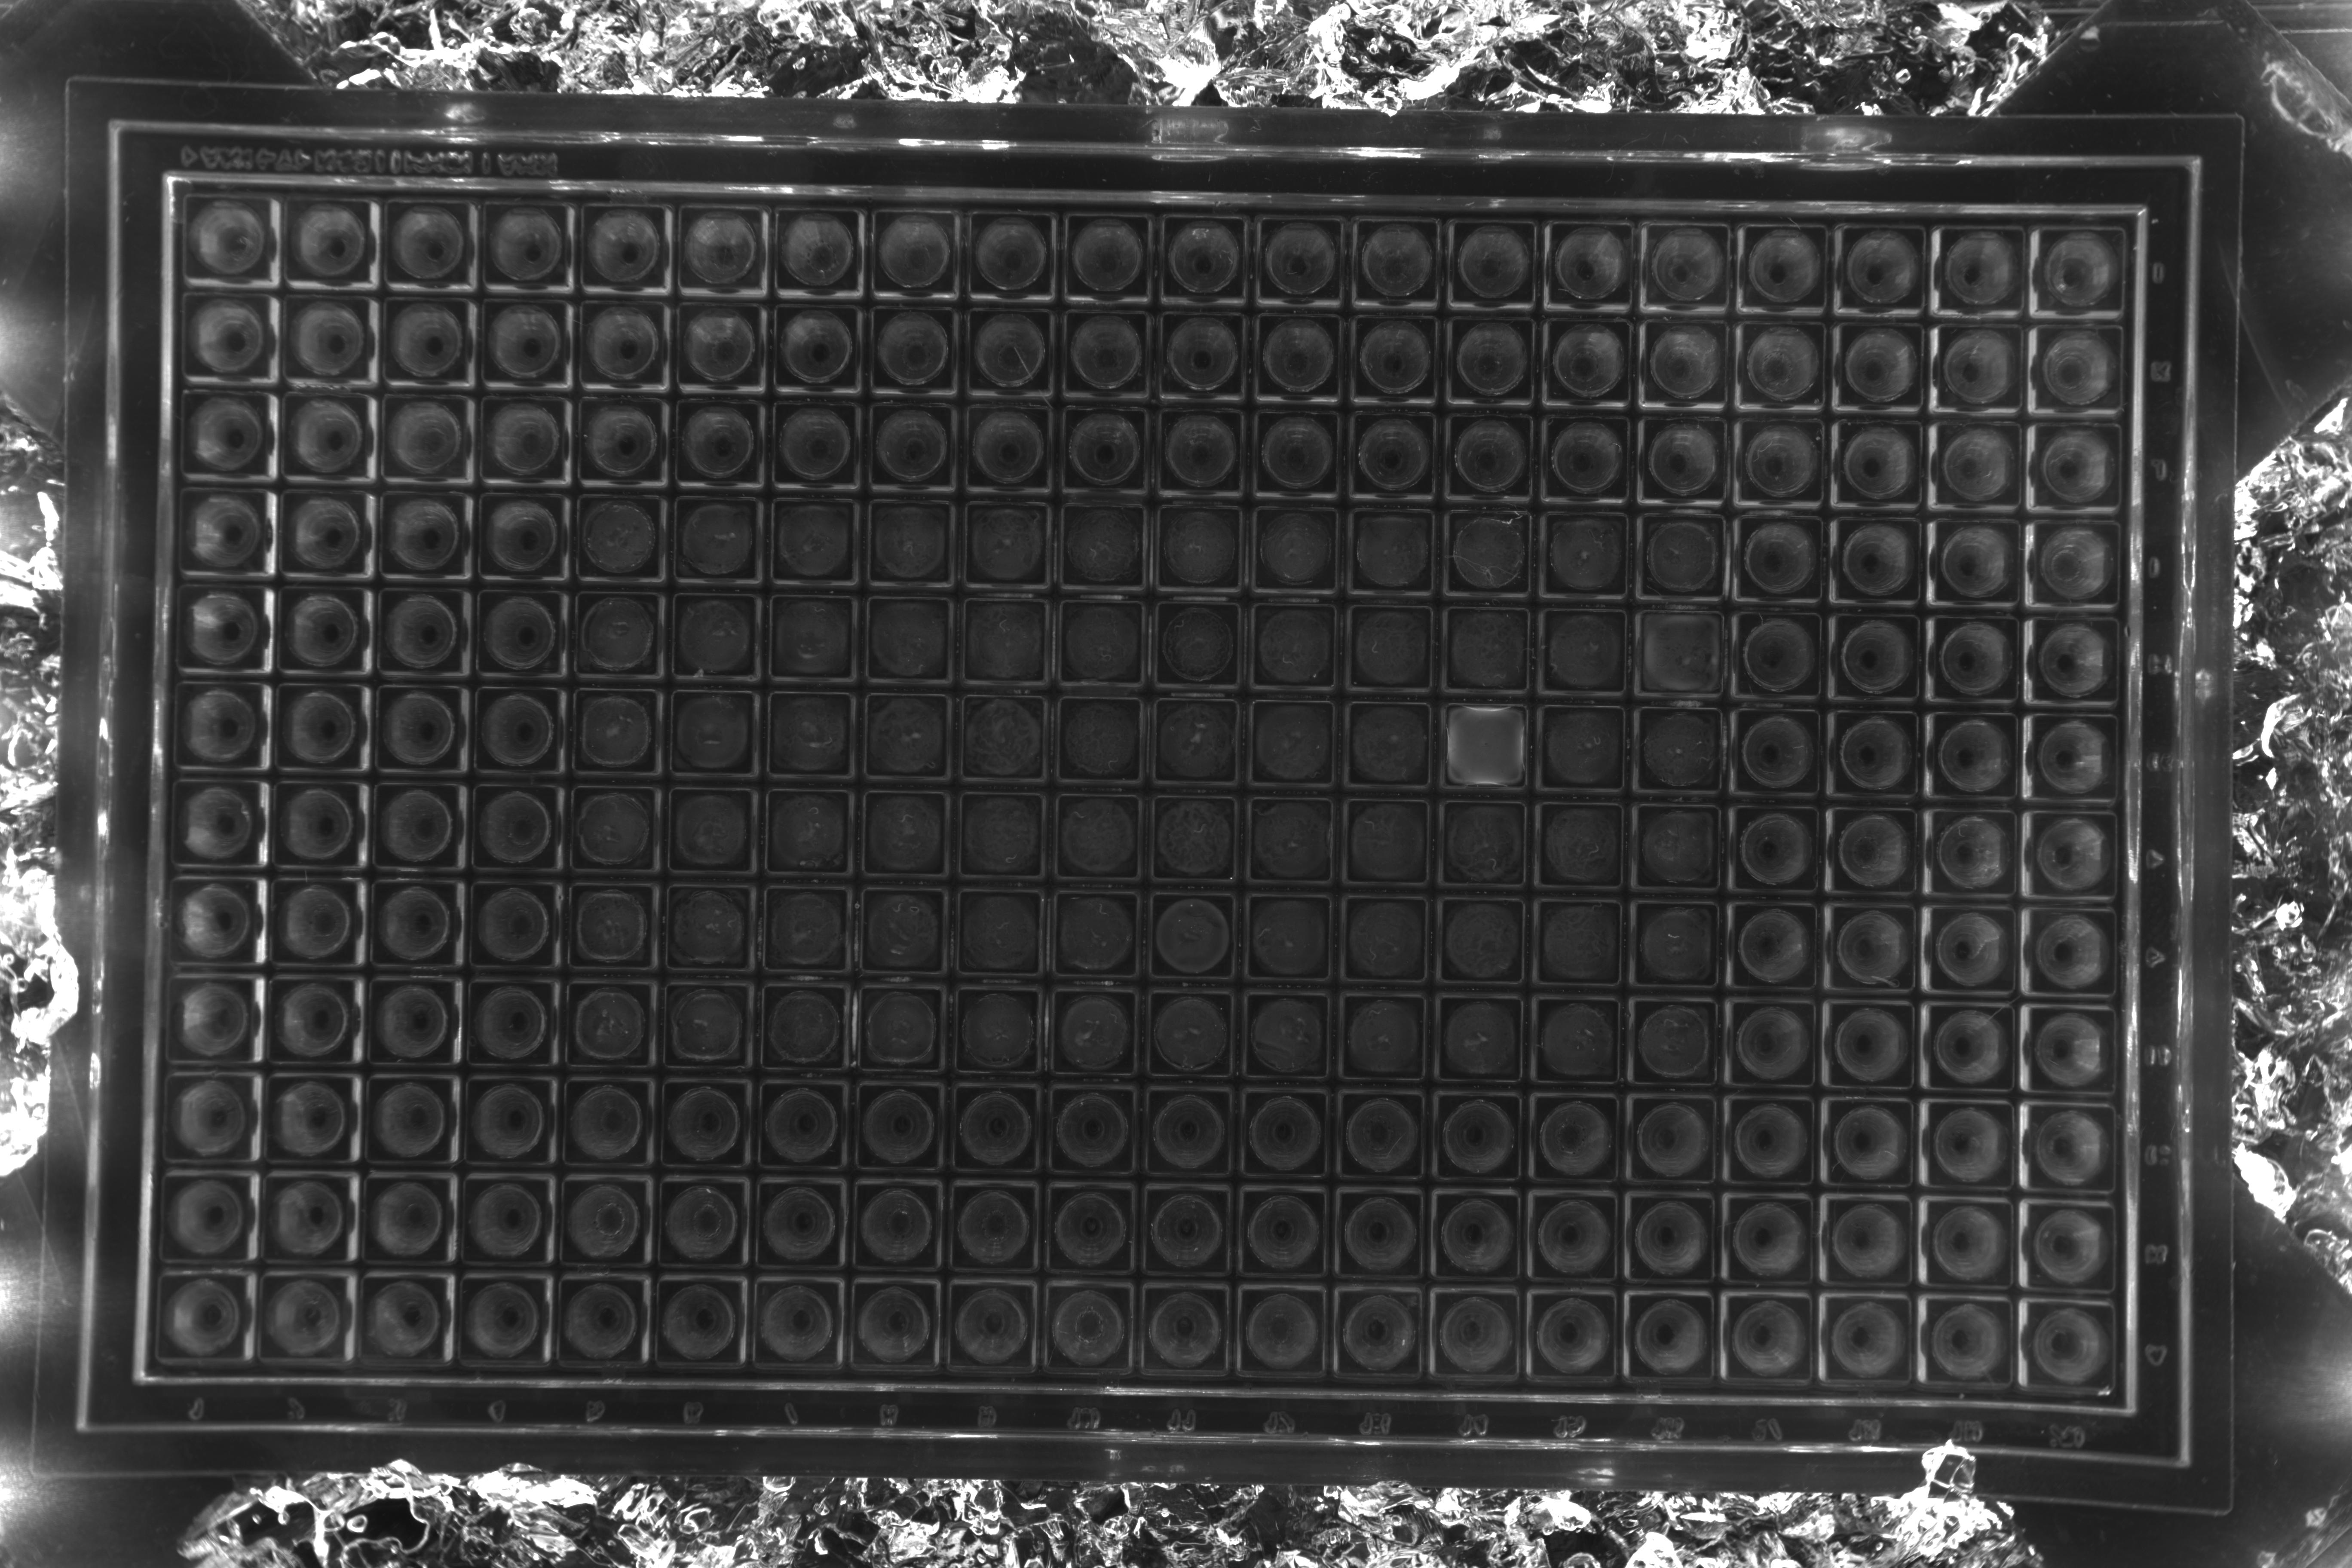WM_well: (397, 847, 486, 934), (588, 1143, 677, 1230), (789, 364, 878, 451), (789, 462, 878, 549), (290, 1242, 378, 1330), (388, 1340, 476, 1428), (401, 458, 488, 546), (497, 749, 584, 836), (786, 1141, 873, 1228), (887, 462, 975, 549), (983, 656, 1071, 744), (1080, 560, 1167, 647), (1176, 1339, 1263, 1426), (1176, 1143, 1263, 1230), (1370, 754, 1458, 842), (1370, 948, 1458, 1036), (1566, 1048, 1654, 1136), (1764, 1150, 1851, 1237), (1857, 366, 1944, 453), (1956, 560, 2044, 647), (1960, 756, 2047, 843), (1962, 954, 2049, 1041), (1963, 1251, 2051, 1339), (2054, 268, 2142, 355)
